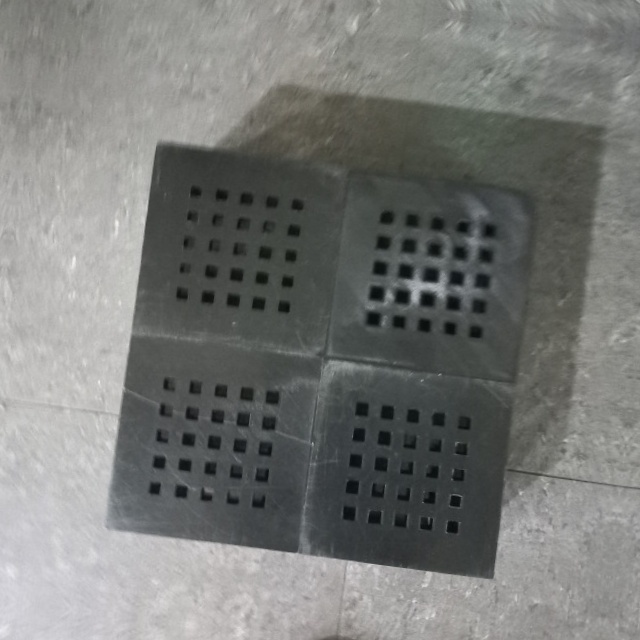pallet: (100, 138, 552, 591)
